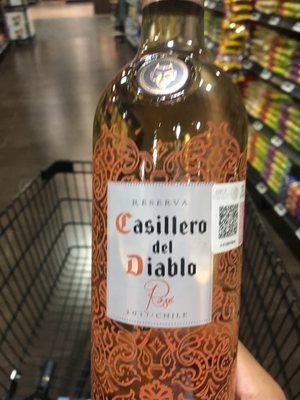casillero del diablo rose: (84, 12, 255, 400)
